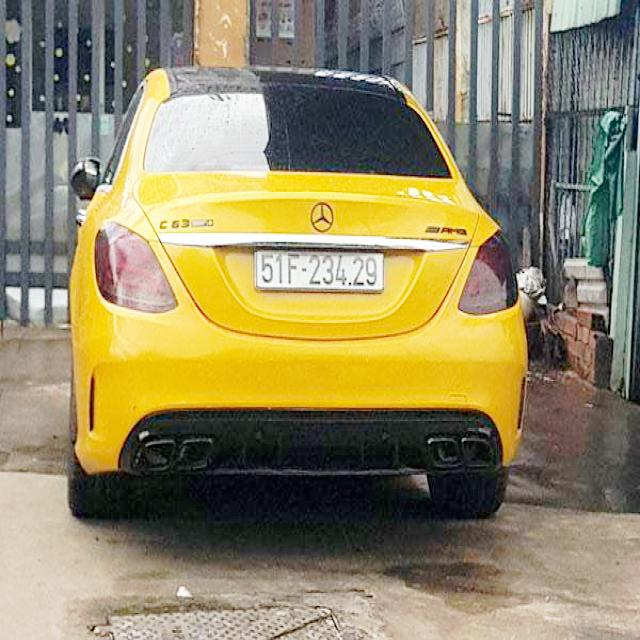license_plate: (258, 249, 385, 292)
